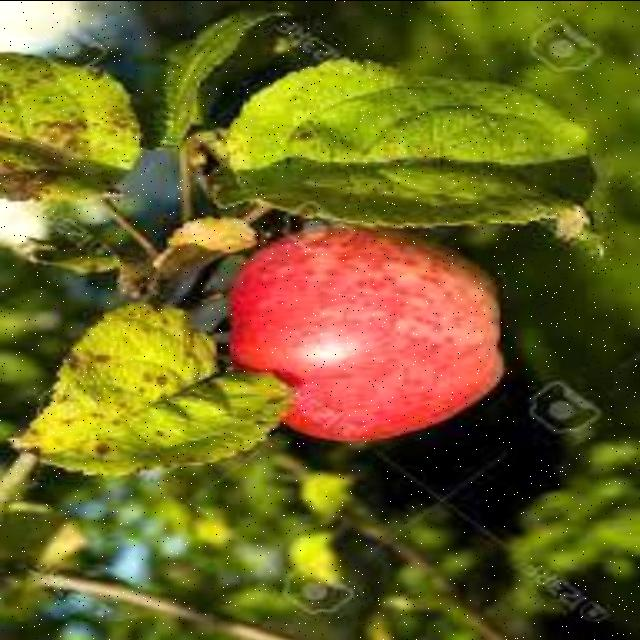HEALTHY: (212, 218, 506, 460)
